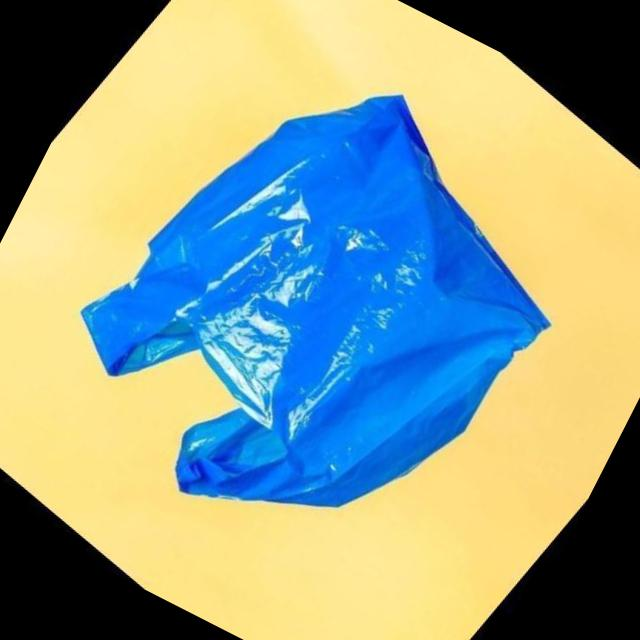KantongPlastik: (26, 9, 614, 610)
